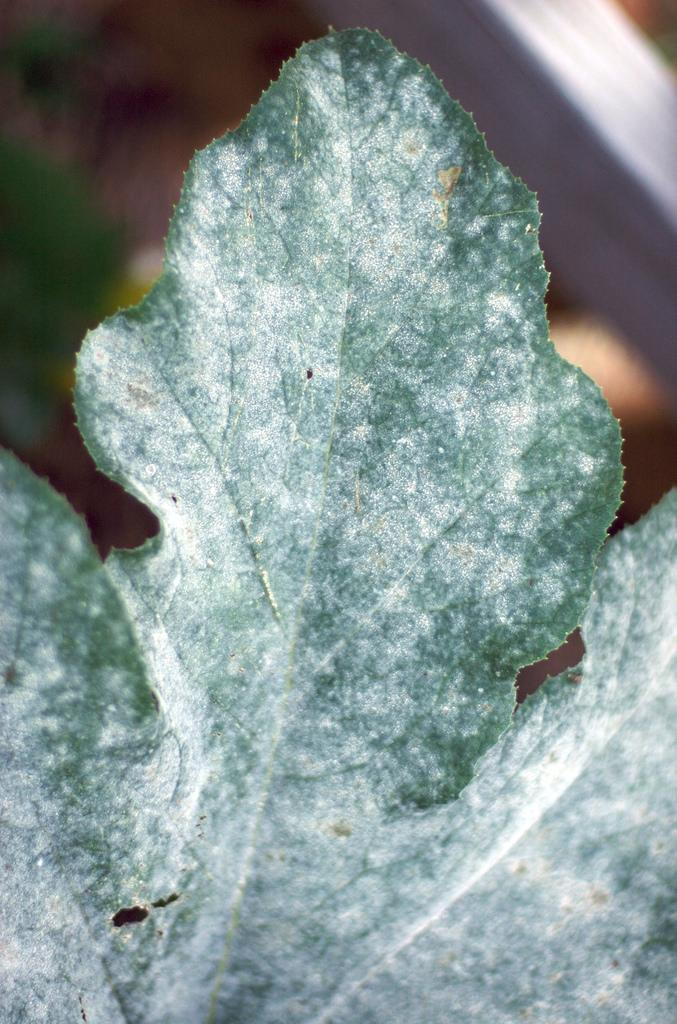Squash Powdery mildew leaf: (6, 22, 677, 1010)
